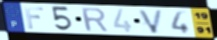4: (112, 8, 135, 34), (170, 10, 192, 35)
5: (51, 6, 75, 32)
F: (24, 6, 46, 30)
R: (80, 7, 111, 33)
V: (137, 9, 165, 34)
